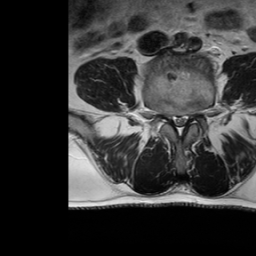CCS_normal: (177, 111, 183, 141)
LFS_stenosis: (190, 104, 196, 127)
LLS_severe_stenosis: (183, 109, 189, 131)
RFS_severe_stenosis: (163, 105, 171, 128)
RLS_stenosis: (171, 109, 177, 129)
